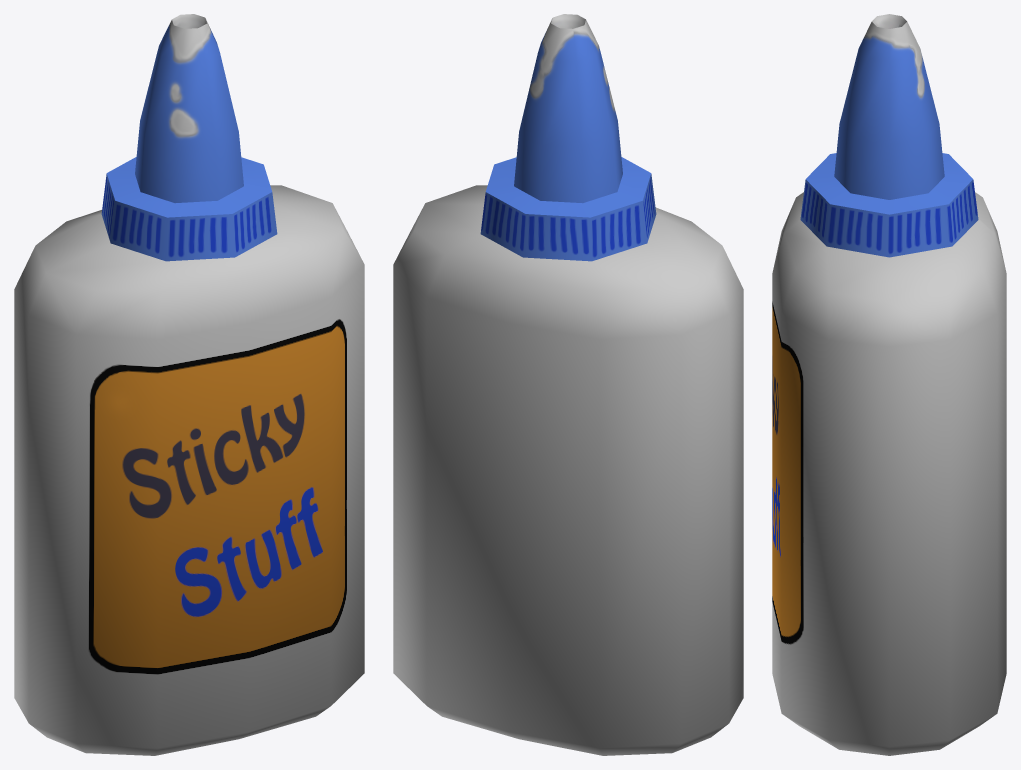
Rendered from StickyStuff.fbx.
3 renders of one model, left to right at view 1: azimuth 30°, elevation 25°; view 2: azimuth 150°, elevation 25°; view 3: azimuth 270°, elevation 25°, orthographic. The views are drawn at different scales.
Parts seen in each view (by area): view 1: StickyStuff; view 2: StickyStuff; view 3: StickyStuff.
Part boxes in pixels (box(x1,y1,x2,y2)): StickyStuff: box(14, 14, 364, 755); StickyStuff: box(393, 14, 743, 755); StickyStuff: box(772, 14, 1006, 755).
Size of the model in its own units: 8.33 by 16.88 by 5.38.
